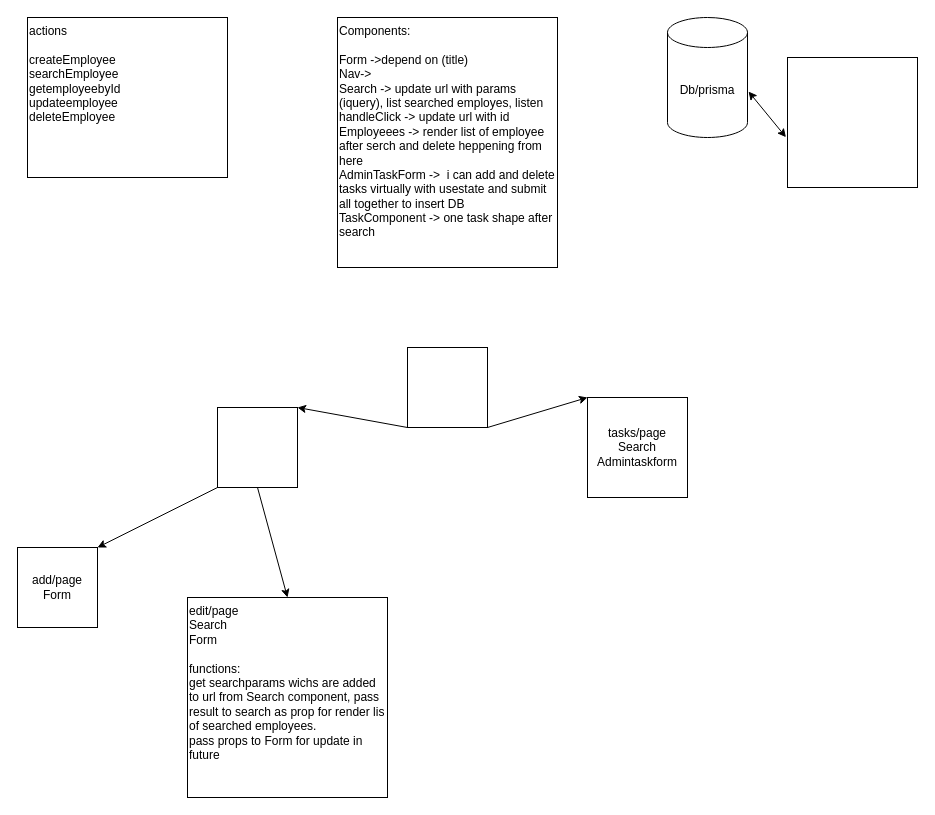
Image size: 935x815. Some labels were removed from this diagram. Each missing label, with the box of its shape:
Admin page: (406, 346, 488, 428)
employee page layout: (216, 406, 298, 488)
employee table task table: (786, 56, 918, 188)
